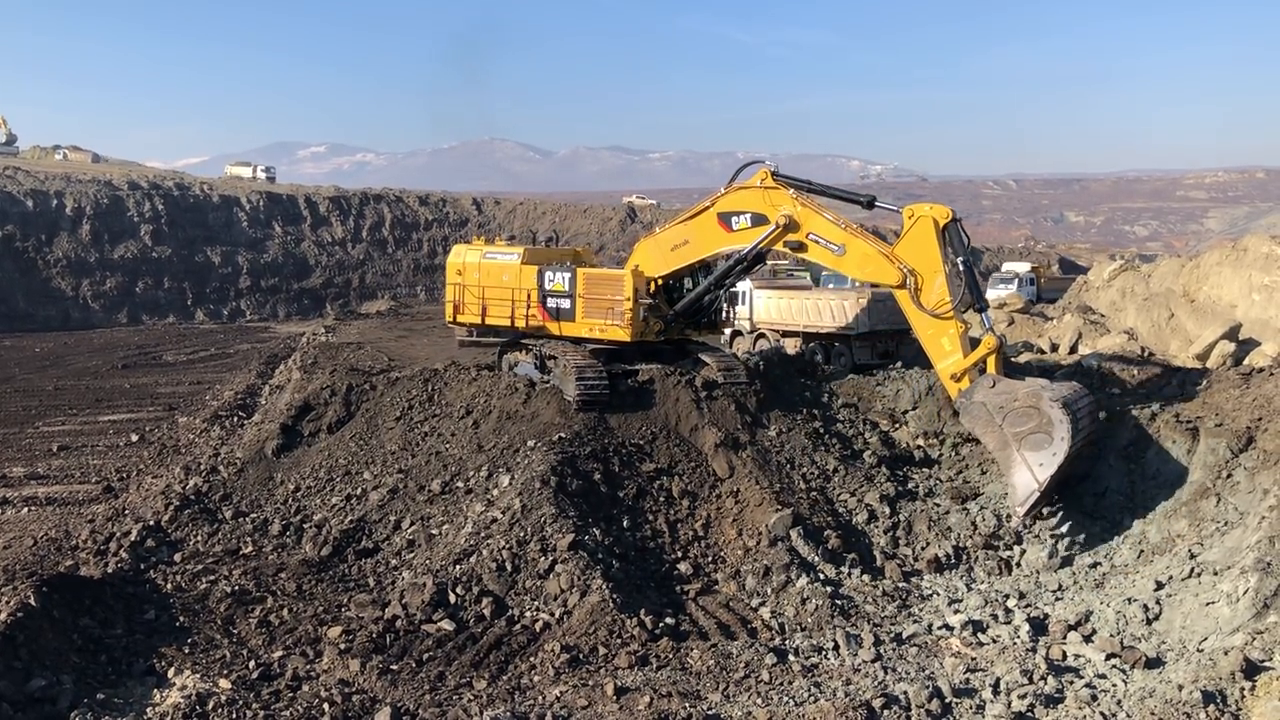empty: (950, 363, 1104, 531)
